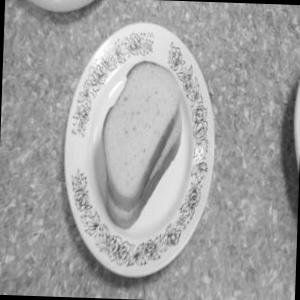bread: (84, 52, 205, 237)
